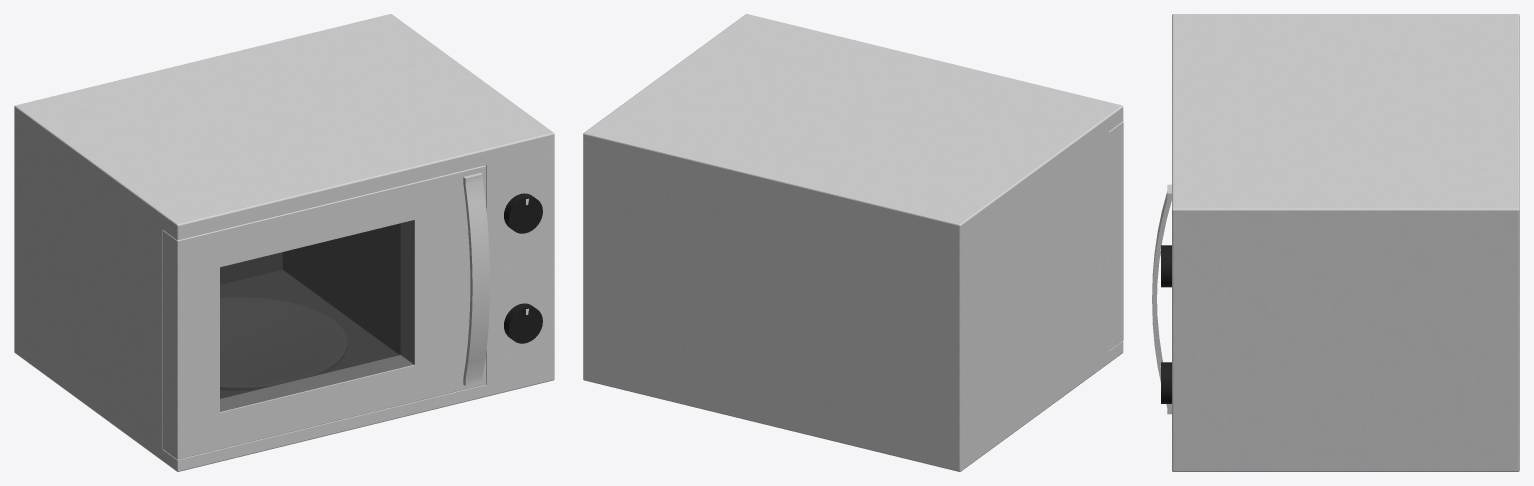
Rendered from MicrowaveOven01.fbx.
3 views of the same model, side by side, from view 1: azimuth 30°, elevation 25°; view 2: azimuth 150°, elevation 25°; view 3: azimuth 270°, elevation 25° (orthographic). The views are drawn at different scales.
Visible parts, largest first — view 1: MicrowaveOven01, MicrowaveOven01_Door, MicrowaveOven01Glass, MicrowaveOven01_Plate, MicrowaveOven01_Knob01, MicrowaveOven01_Knob02; view 2: MicrowaveOven01, MicrowaveOven01_Door; view 3: MicrowaveOven01, MicrowaveOven01_Door, MicrowaveOven01_Knob01, MicrowaveOven01_Knob02.
Part boxes in pixels (x1,y1,x2,y2): MicrowaveOven01: [14, 14, 554, 471]; MicrowaveOven01_Door: [163, 165, 489, 459]; MicrowaveOven01Glass: [220, 220, 414, 411]; MicrowaveOven01_Plate: [220, 297, 347, 390]; MicrowaveOven01_Knob01: [504, 193, 542, 233]; MicrowaveOven01_Knob02: [504, 303, 542, 343]; MicrowaveOven01: [583, 14, 1123, 471]; MicrowaveOven01_Door: [1109, 121, 1123, 350]; MicrowaveOven01: [1172, 14, 1519, 471]; MicrowaveOven01_Door: [1152, 184, 1171, 414]; MicrowaveOven01_Knob01: [1160, 245, 1171, 287]; MicrowaveOven01_Knob02: [1160, 362, 1171, 403].
Bounding box in the file's own units: 53.6 × 33.58 × 42.51.
